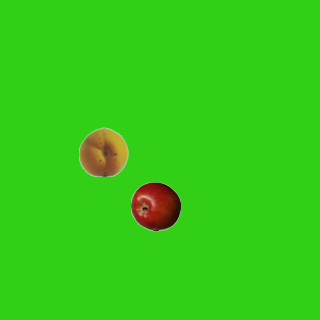Apple Braeburn: (130, 181, 180, 231)
Peach 2: (78, 126, 128, 176)
